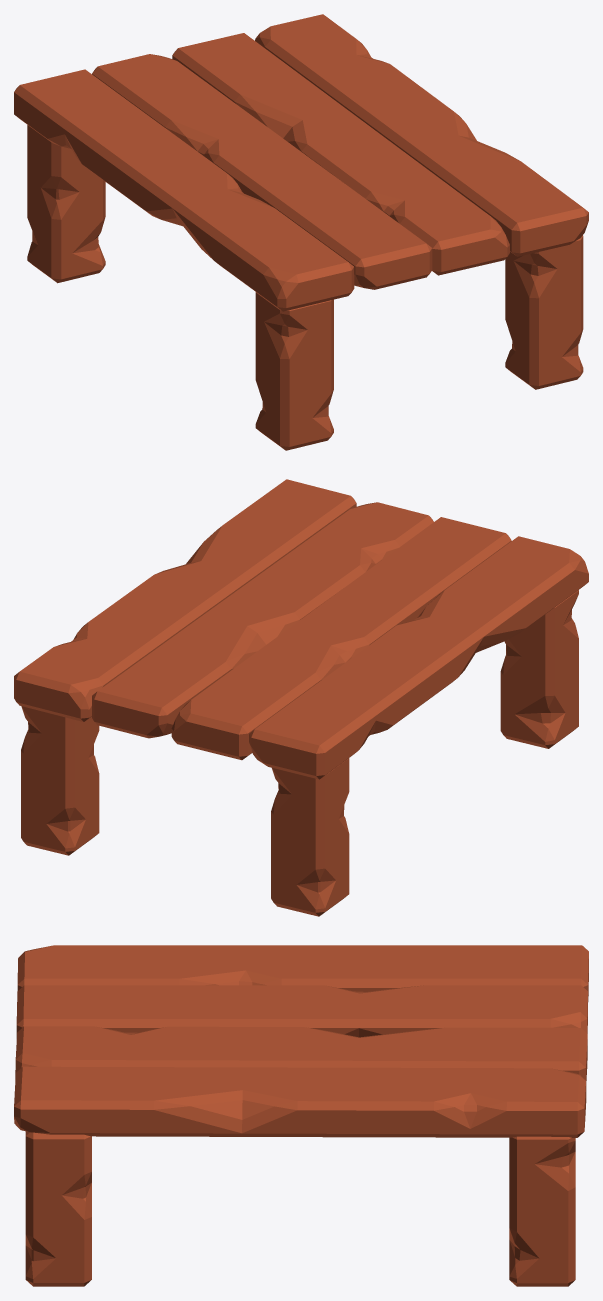
File: table.fbx
The picture shows the model from 3 angles, top to bottom: view 1: azimuth 30°, elevation 25°; view 2: azimuth 150°, elevation 25°; view 3: azimuth 270°, elevation 25°; orthographic projection. The views are drawn at different scales.
Parts seen in each view (by area): view 1: Cube.019, Cube.018; view 2: Cube.019, Cube.018; view 3: Cube.019, Cube.018.
Part boxes in pixels (left/top/right/bottom): Cube.019: left=14, top=14, right=588, bottom=311; Cube.018: left=27, top=125, right=583, bottom=450; Cube.019: left=14, top=479, right=588, bottom=779; Cube.018: left=21, top=590, right=578, bottom=916; Cube.019: left=14, top=945, right=588, bottom=1137; Cube.018: left=25, top=1131, right=575, bottom=1286.
Size of the model in its own units: 510 by 277 by 768.
